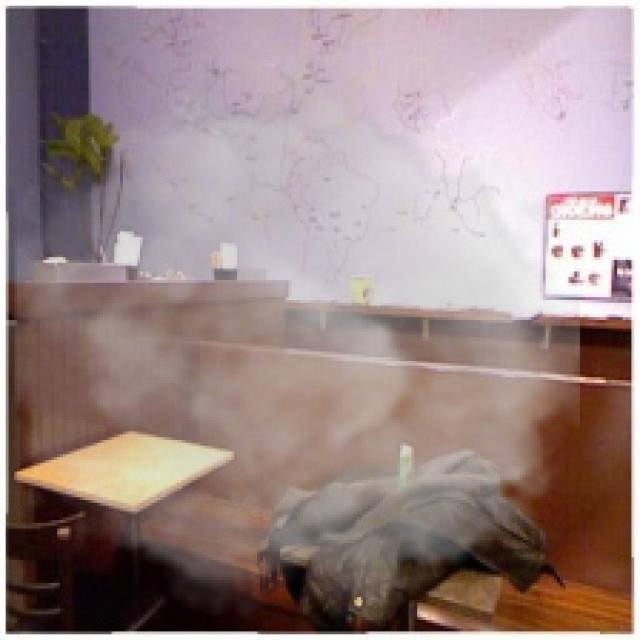smoke: (14, 60, 580, 629)
